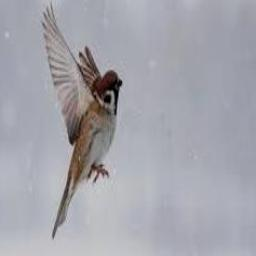Sparrow: (40, 1, 122, 238)
